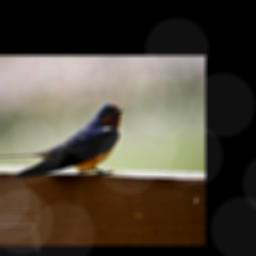Swallow: (0, 100, 124, 178)
